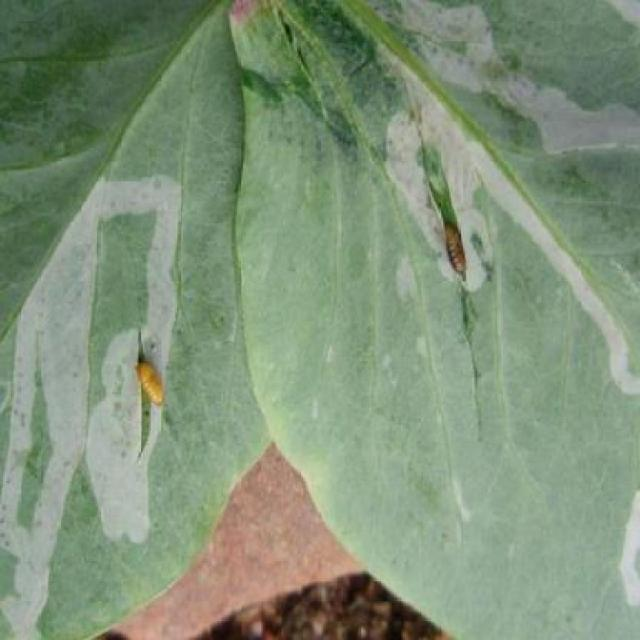whorl-maggot: (435, 215, 483, 294), (128, 356, 170, 416)
